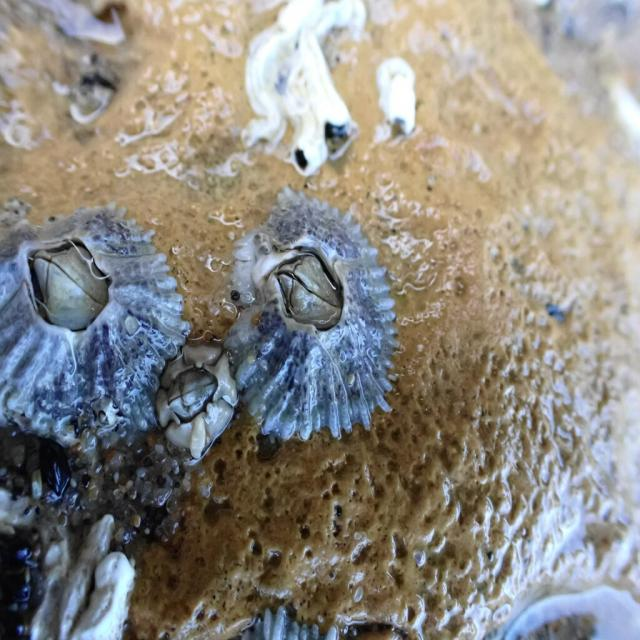barnacles: (0, 197, 176, 448), (243, 202, 403, 446), (157, 345, 240, 472)
